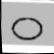no answer: (9, 10, 49, 41)
